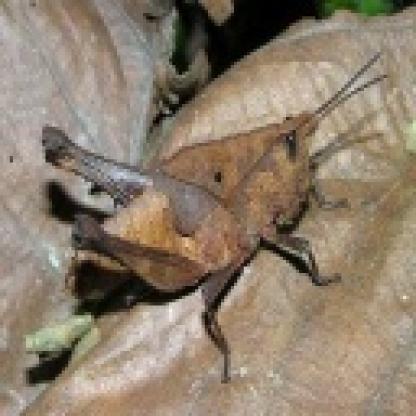grasshopper: (39, 67, 369, 372)
